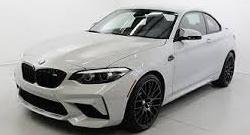Cars: (16, 10, 236, 133)
